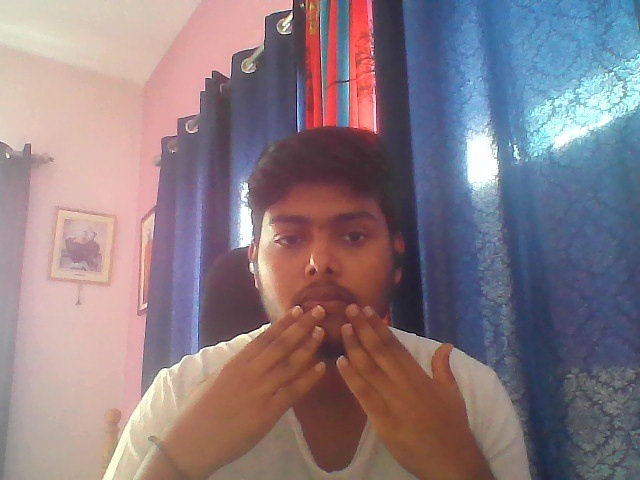Thank You: (191, 301, 495, 469)
